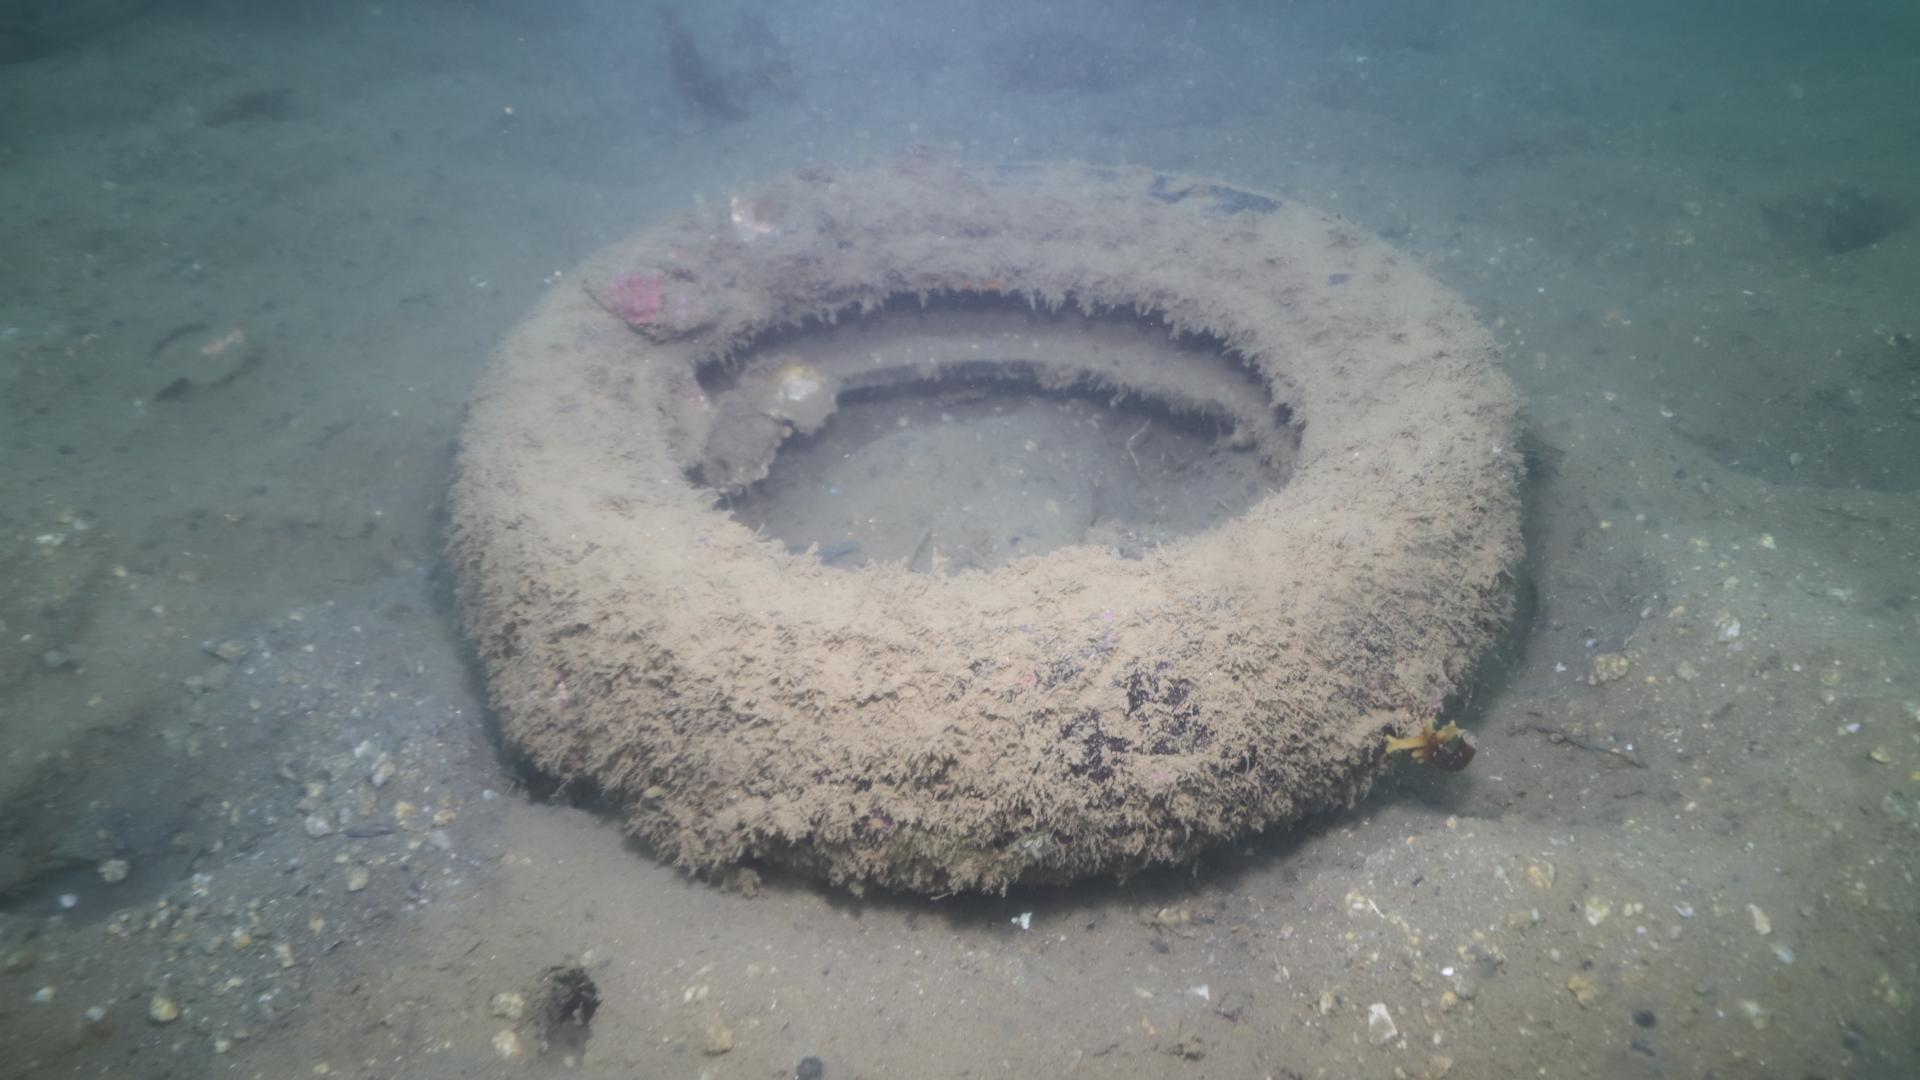tire: (454, 164, 1519, 882)
